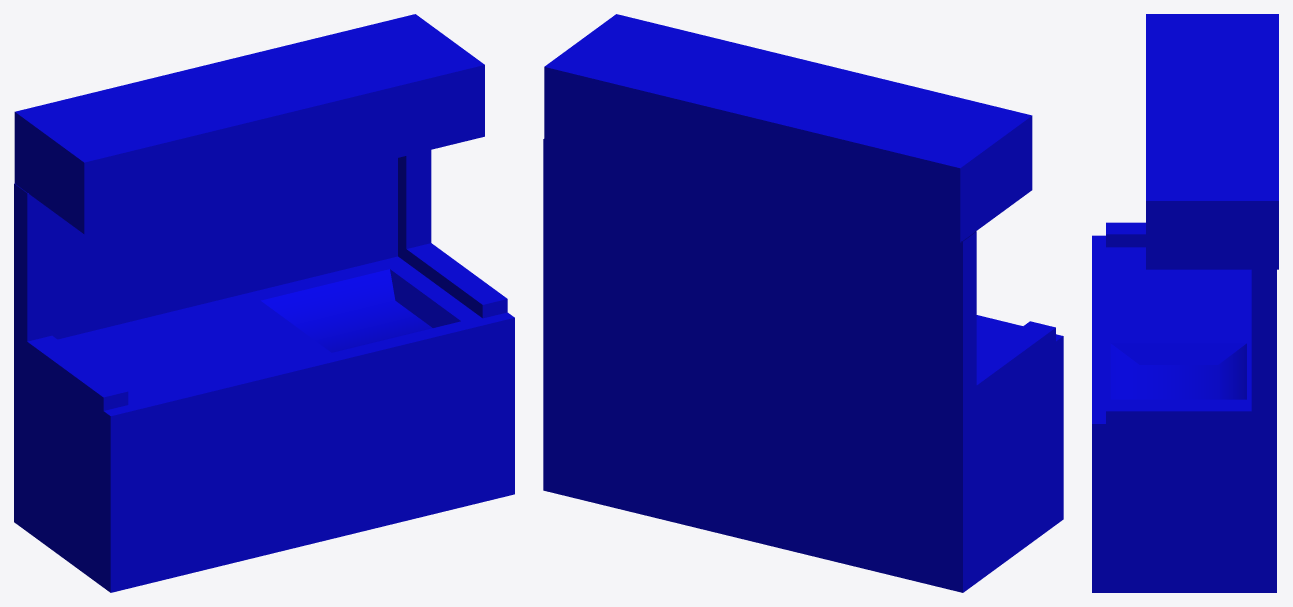
The model's file is SE_Proxy_FryWarmer.fbx.
The picture shows the model from 3 angles, left to right: view 1: azimuth 30°, elevation 25°; view 2: azimuth 150°, elevation 25°; view 3: azimuth 270°, elevation 25°; orthographic projection. The views are drawn at different scales.
Parts seen in each view (by area): view 1: SE_Proxy_FryWarmer:SE_Proxy_FryWarmer; view 2: SE_Proxy_FryWarmer:SE_Proxy_FryWarmer; view 3: SE_Proxy_FryWarmer:SE_Proxy_FryWarmer.
Boxes of the visible parts, bbox=[...] form: SE_Proxy_FryWarmer:SE_Proxy_FryWarmer: bbox=[14, 14, 514, 592]; SE_Proxy_FryWarmer:SE_Proxy_FryWarmer: bbox=[543, 14, 1063, 592]; SE_Proxy_FryWarmer:SE_Proxy_FryWarmer: bbox=[1092, 14, 1278, 592].
Size of the model in its own units: 4723 by 4571 by 1977.
